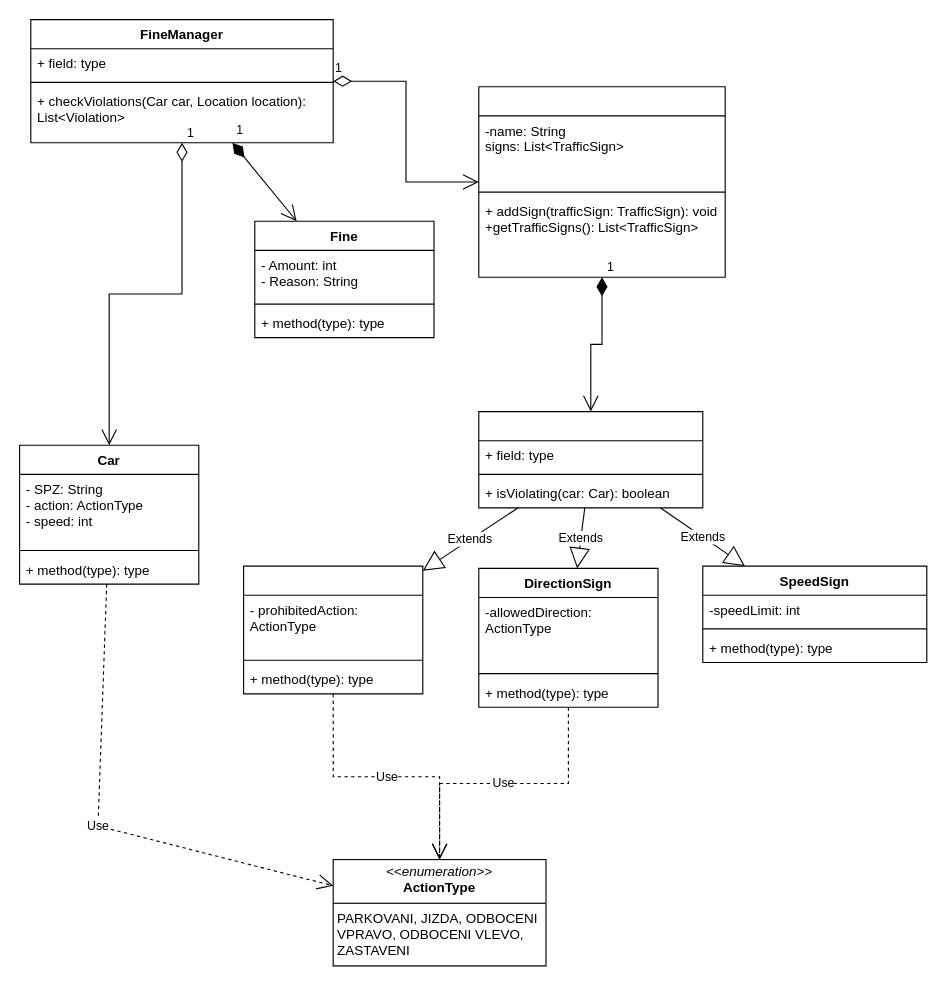
The diagram is 946 pixels wide and 986 high, and some of its shapes have lost their labels. Here are the shapes that lost their labels. From the top down, the box of each, then its label:
(478, 86, 725, 277): Location
(478, 410, 703, 508): TrafficSign
(242, 565, 423, 694): ProhibitionSign
